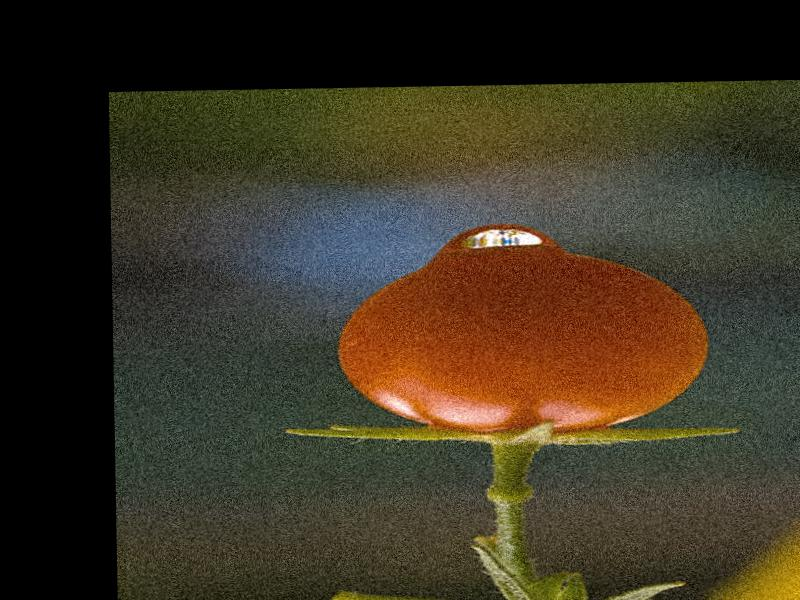Tomato: (332, 249, 707, 437)
